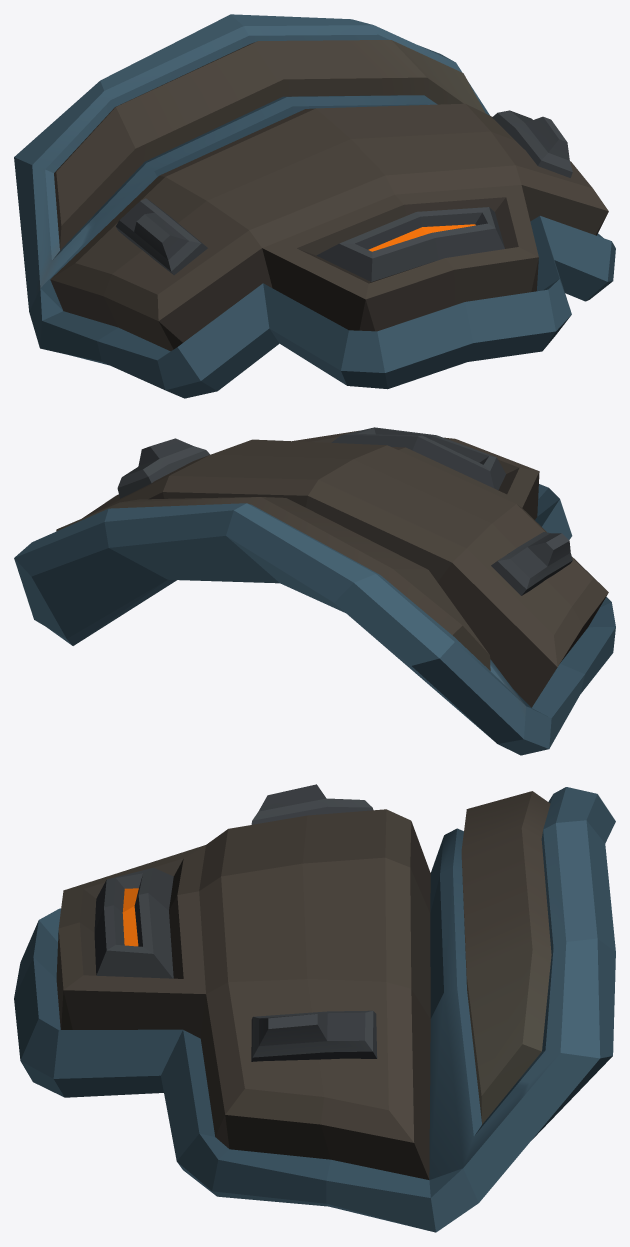
The model's file is SM_Mech_Hand_01_Armor_Wrist_04.fbx.
3 views of the same model, one above another, from view 1: azimuth 30°, elevation 25°; view 2: azimuth 150°, elevation 25°; view 3: azimuth 270°, elevation 25° (orthographic). The views are drawn at different scales.
Visible parts, largest first — view 1: SM_Mech_Hand_01_Armor_Wrist_04; view 2: SM_Mech_Hand_01_Armor_Wrist_04; view 3: SM_Mech_Hand_01_Armor_Wrist_04.
Part boxes in pixels (x1,y1,x2,y2): SM_Mech_Hand_01_Armor_Wrist_04: (14,14,615,398); SM_Mech_Hand_01_Armor_Wrist_04: (14,427,615,755); SM_Mech_Hand_01_Armor_Wrist_04: (14,784,615,1232).
Bounding box in the file's own units: 51.91 × 23.29 × 45.09.
